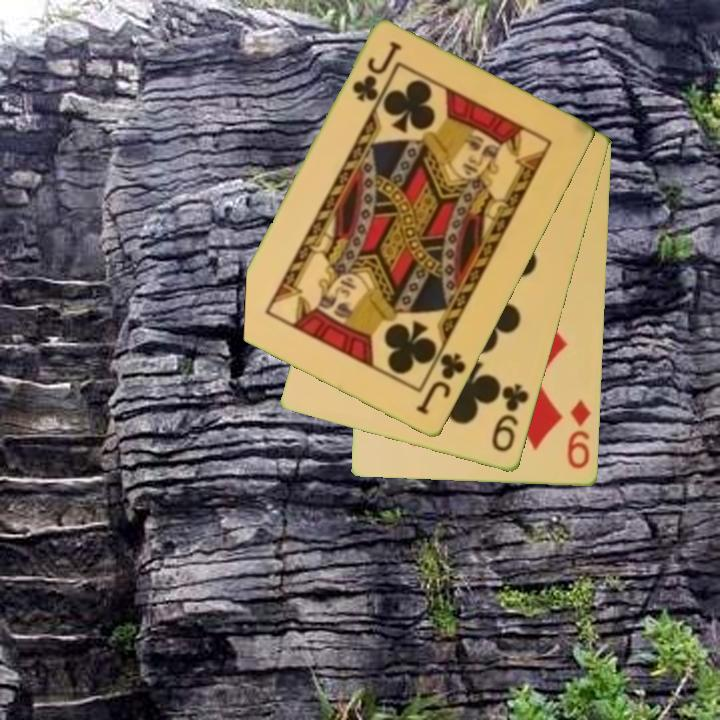9c: (488, 380, 532, 456)
9d: (564, 396, 594, 472)
Jc: (412, 350, 469, 418), (349, 38, 404, 105)
